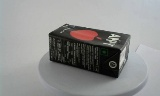appy: (45, 23, 123, 78)
